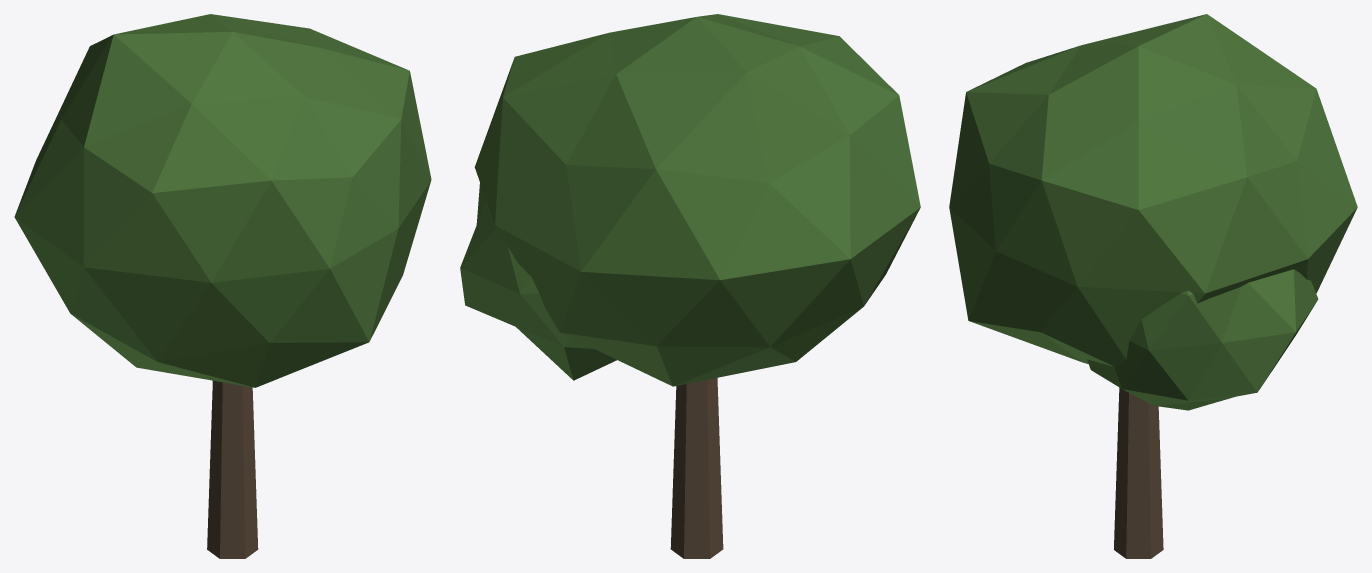
Rendered from tree_round.glb.
The picture shows the model from 3 angles, left to right: view 1: azimuth 30°, elevation 25°; view 2: azimuth 150°, elevation 25°; view 3: azimuth 270°, elevation 25°; orthographic projection. The views are drawn at different scales.
Visible parts, largest first — view 1: Body; view 2: Body; view 3: Body.
Part boxes in pixels (box(x1,y1,x2,y2)): Body: box(14, 14, 431, 558); Body: box(460, 14, 920, 558); Body: box(949, 14, 1357, 558).
Bounding box in the file's own units: 4.2 × 5.59 × 4.11.
